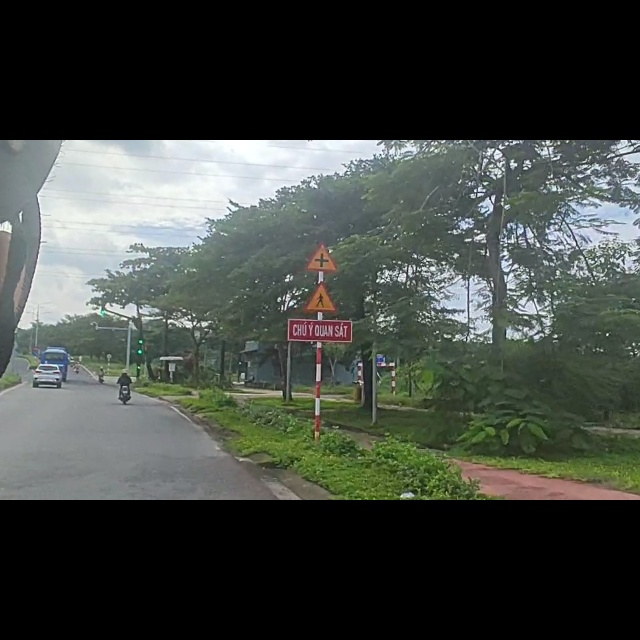bien_nguy_hiem: (303, 179, 341, 238), (303, 249, 341, 308)
